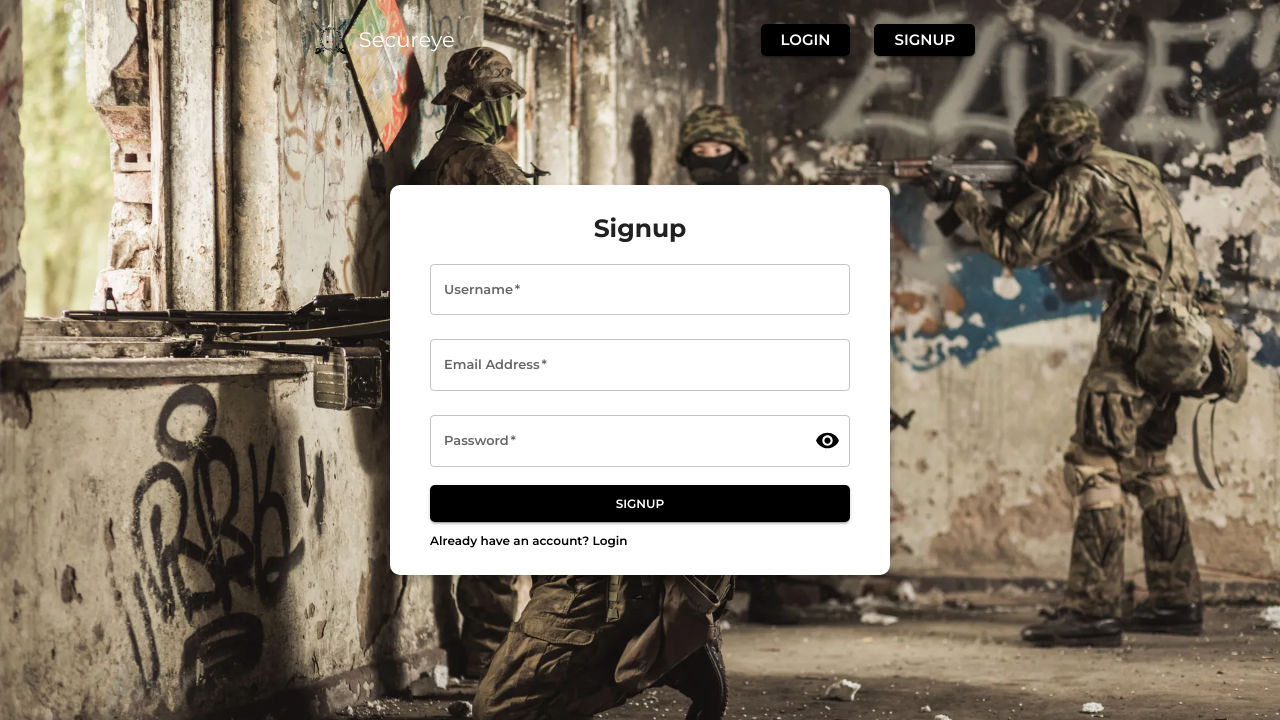
Test case: signup › applies the original name and password rules
This screenshot has width=1280, height=720.
In the field labelled "Username *": {"x": 640, "y": 290} top-left (430, 264), bottom-right (850, 315), type "Niraj!"
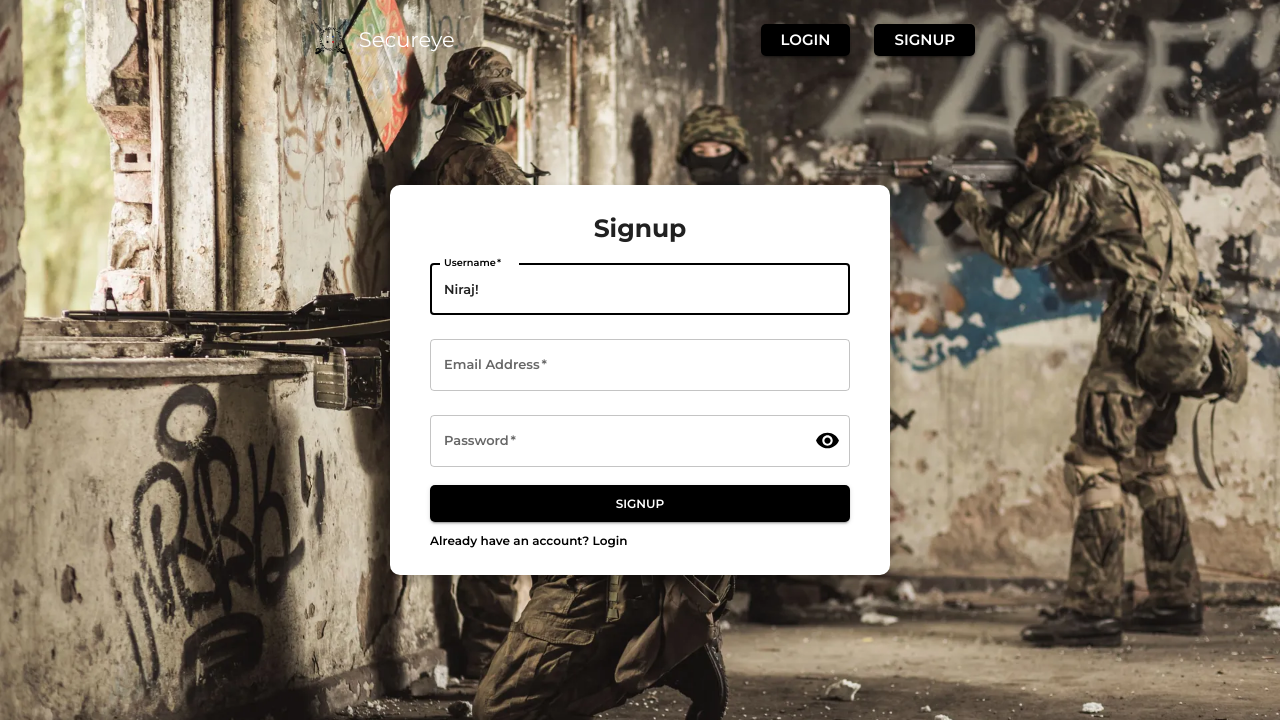
In the field labelled "Email Address *": {"x": 640, "y": 365} top-left (430, 339), bottom-right (850, 391), type "niraj@example.com"
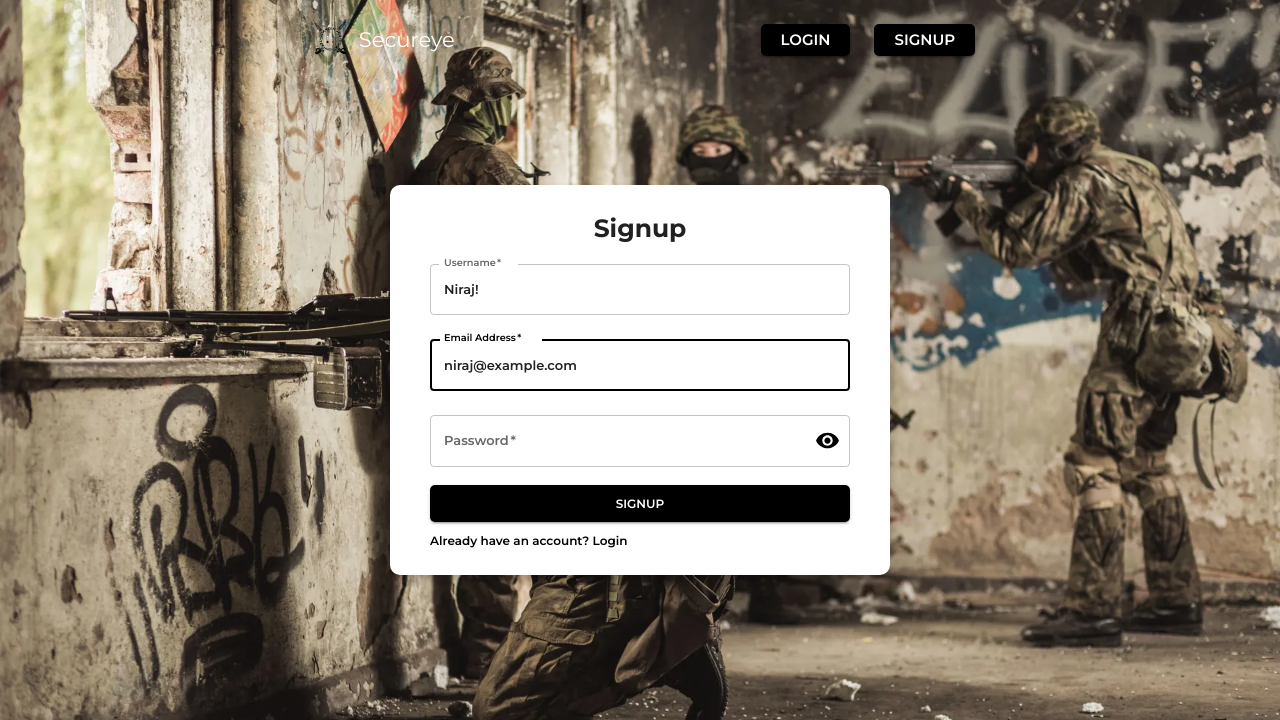
In the password field labelled "Password *": {"x": 614, "y": 441} top-left (430, 415), bottom-right (799, 467), type "has spaces in it"
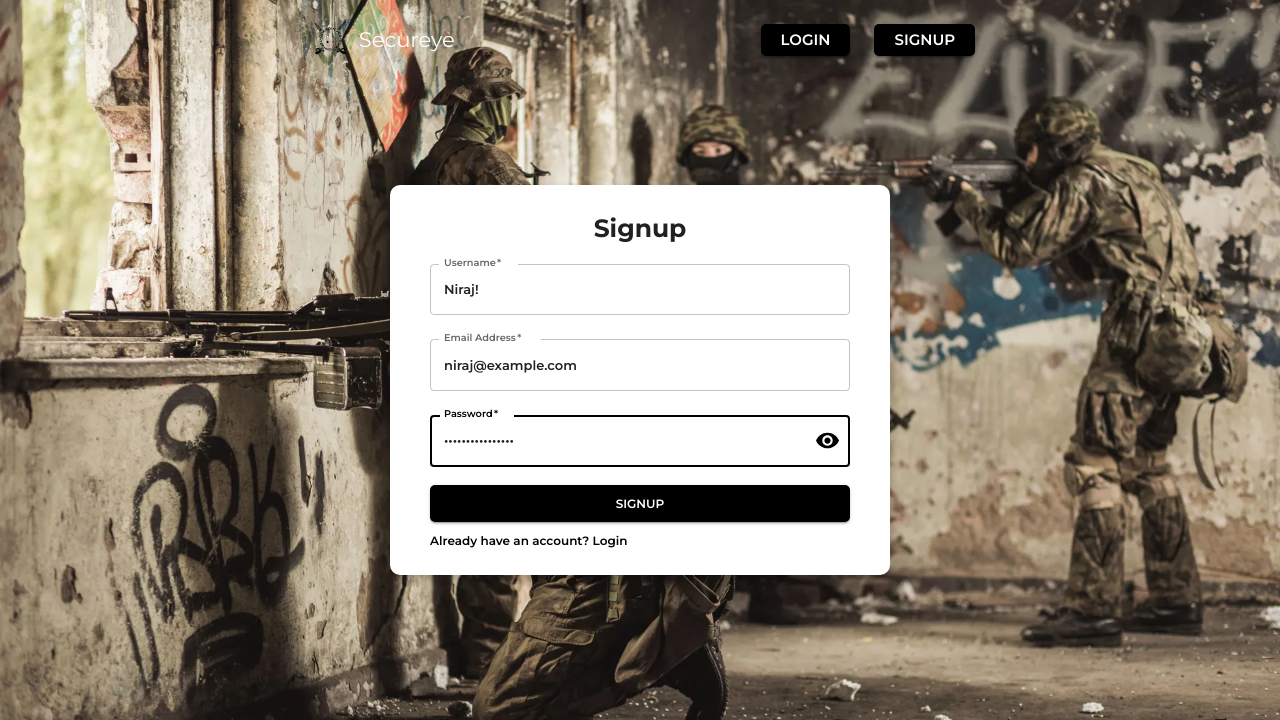
Click the button "Signup": {"x": 640, "y": 503} top-left (430, 485), bottom-right (850, 522)
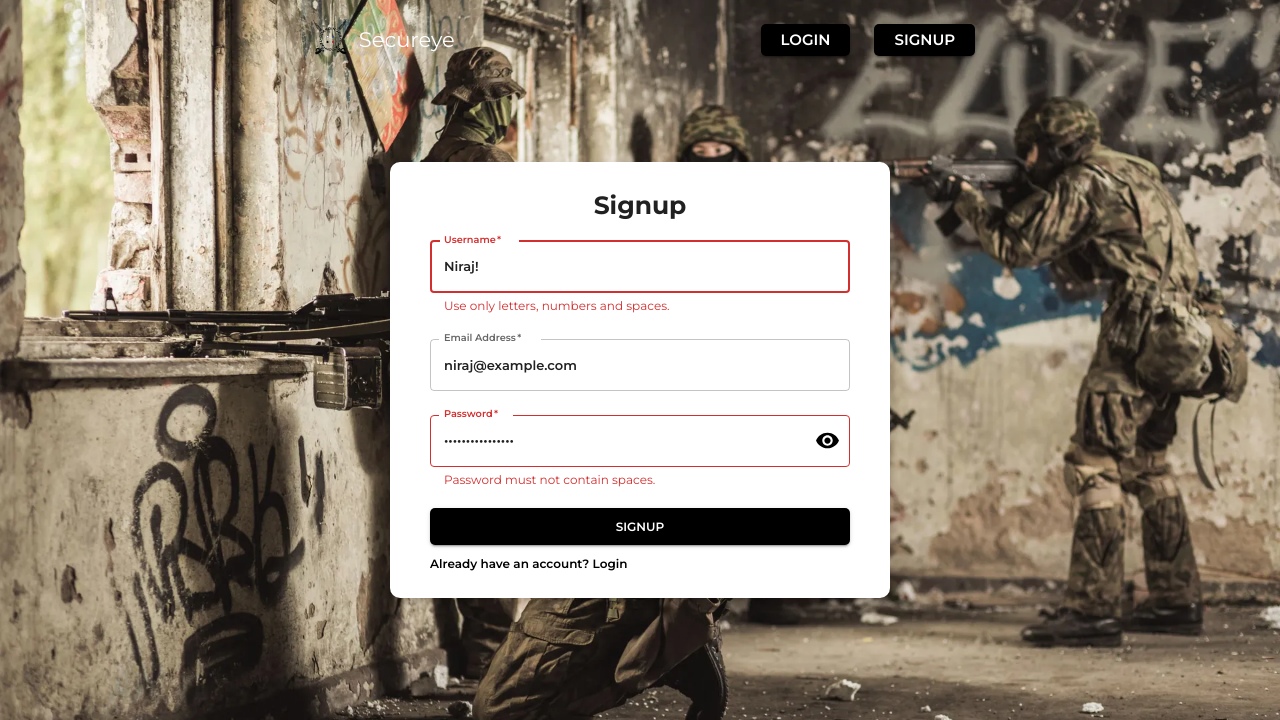
Expected: the text "Use only letters, numbers and spaces." is shown, top-left (444, 298), bottom-right (670, 312)
Expected: the text "Password must not contain spaces." is shown, top-left (444, 472), bottom-right (655, 487)
